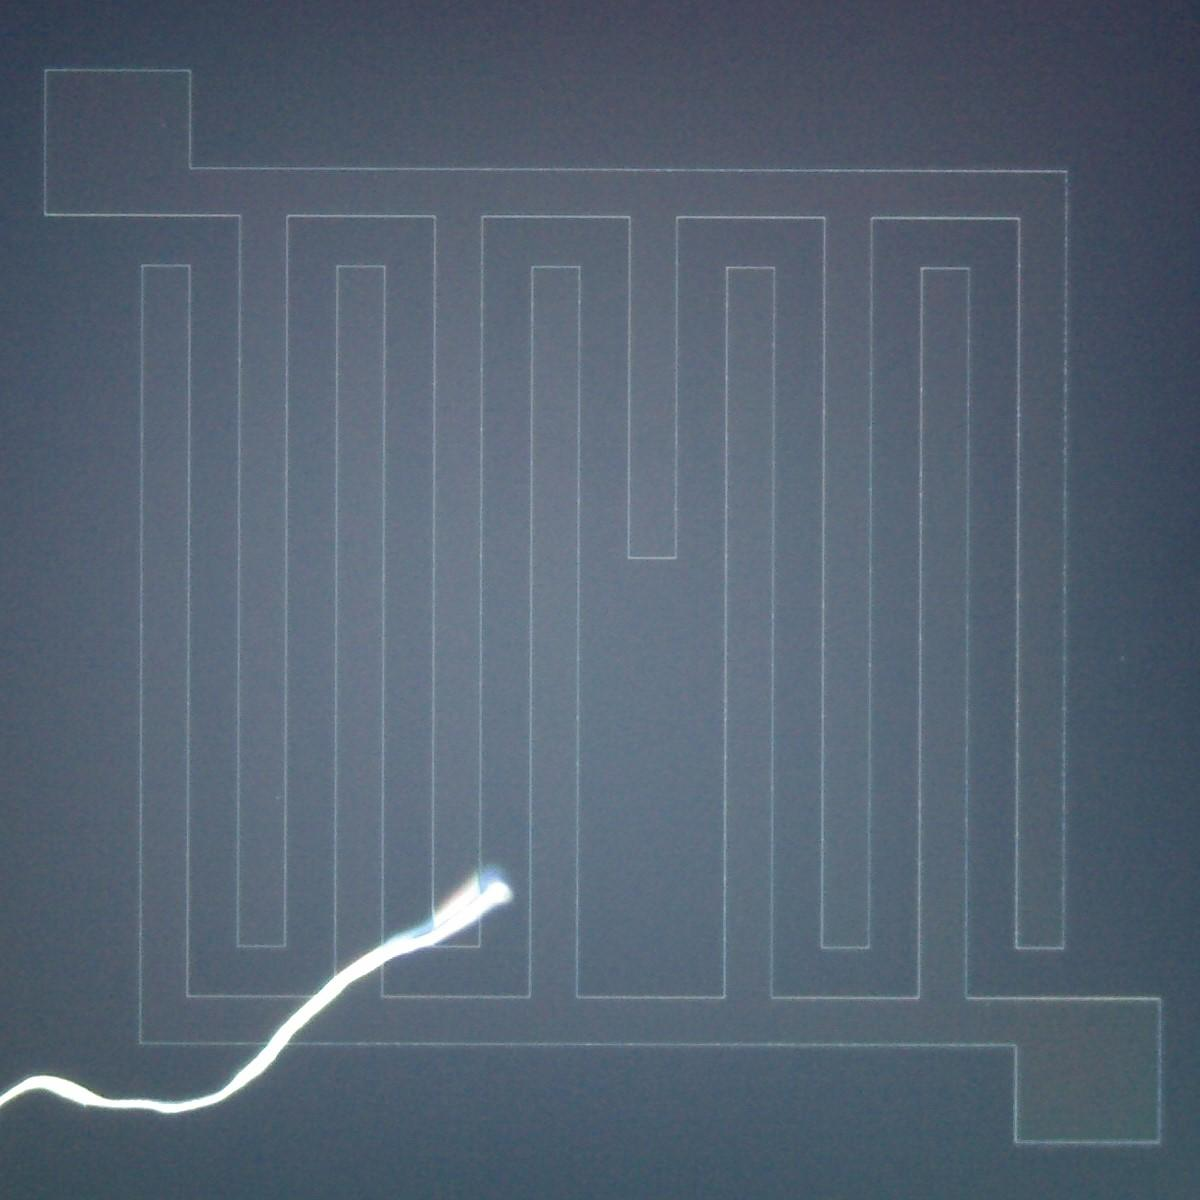foreign: (0, 862, 524, 1119)
short: (557, 157, 745, 1022)
